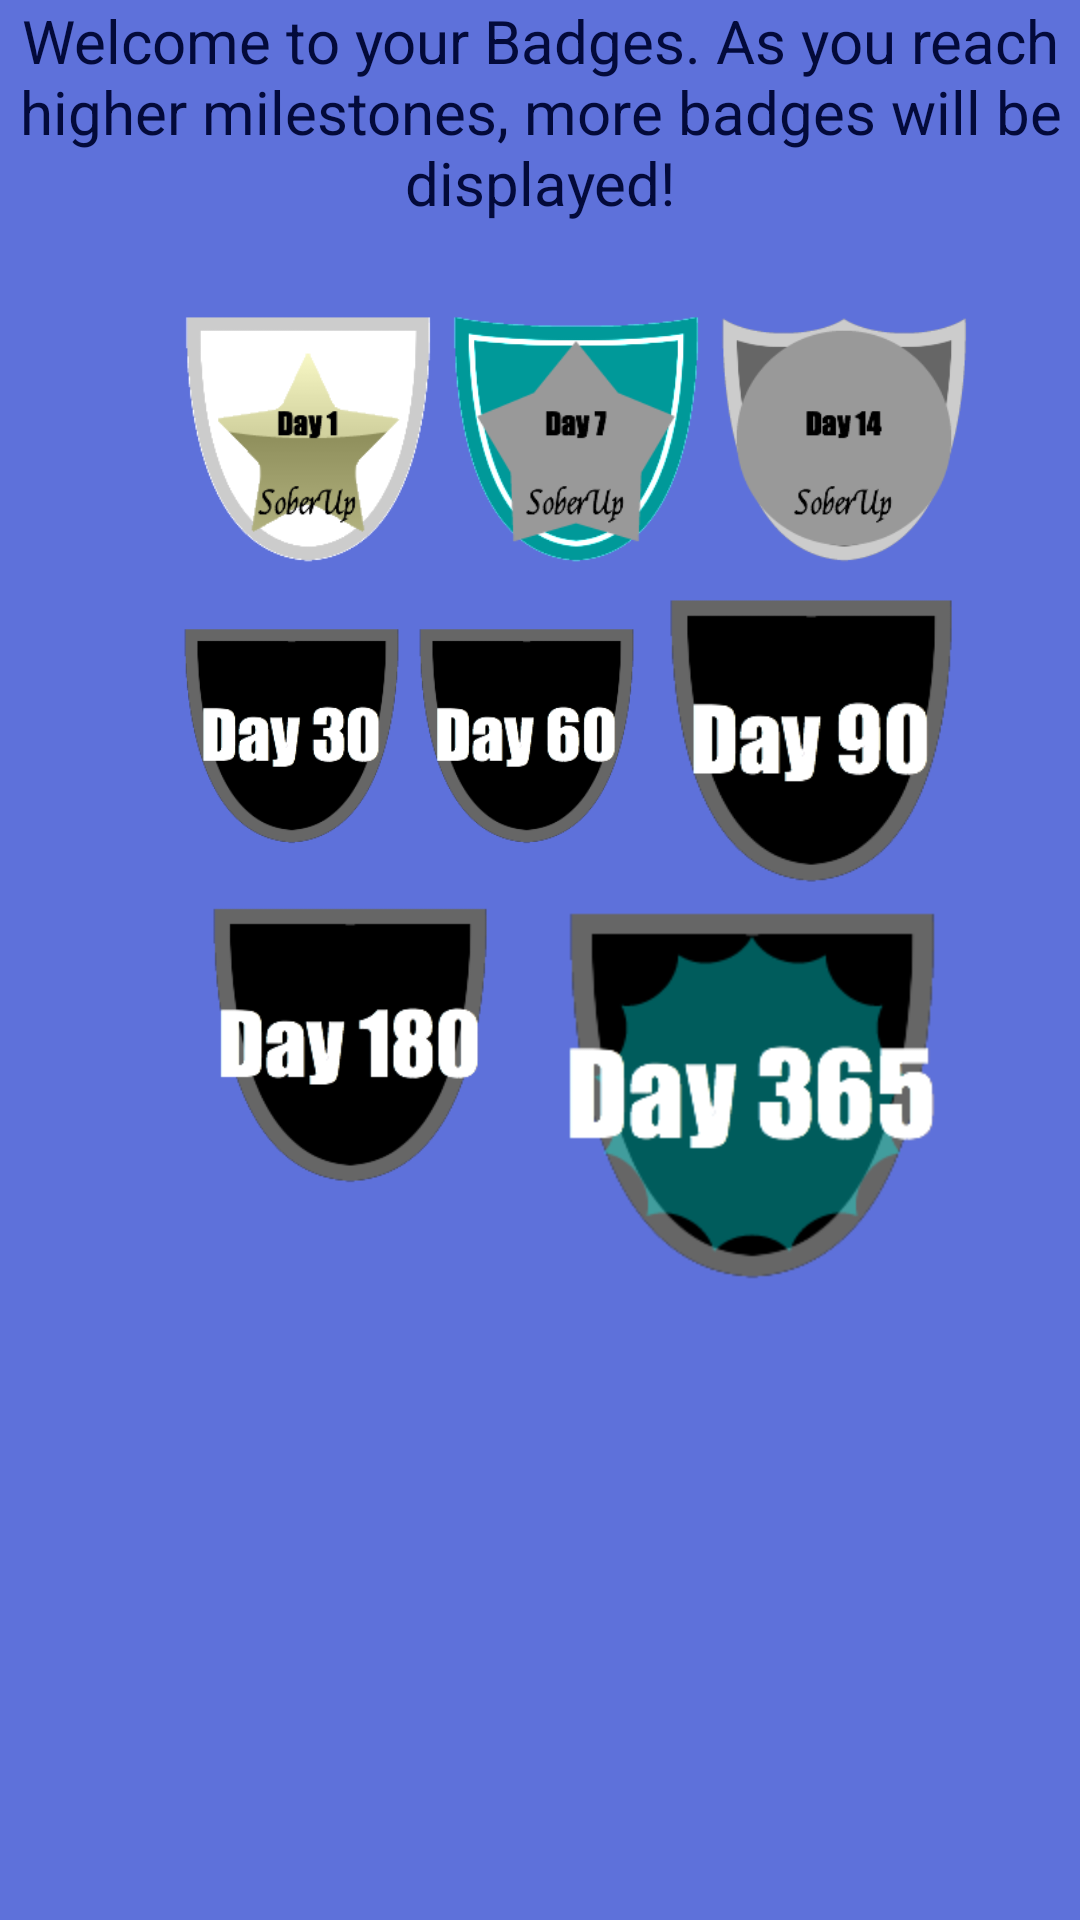

Screen size 1080px x 1920px. Icon name, then its box in pixels as (x1, y1, x2, y2):
day badge: (186, 317, 430, 562), (454, 317, 698, 561), (723, 319, 966, 561)
